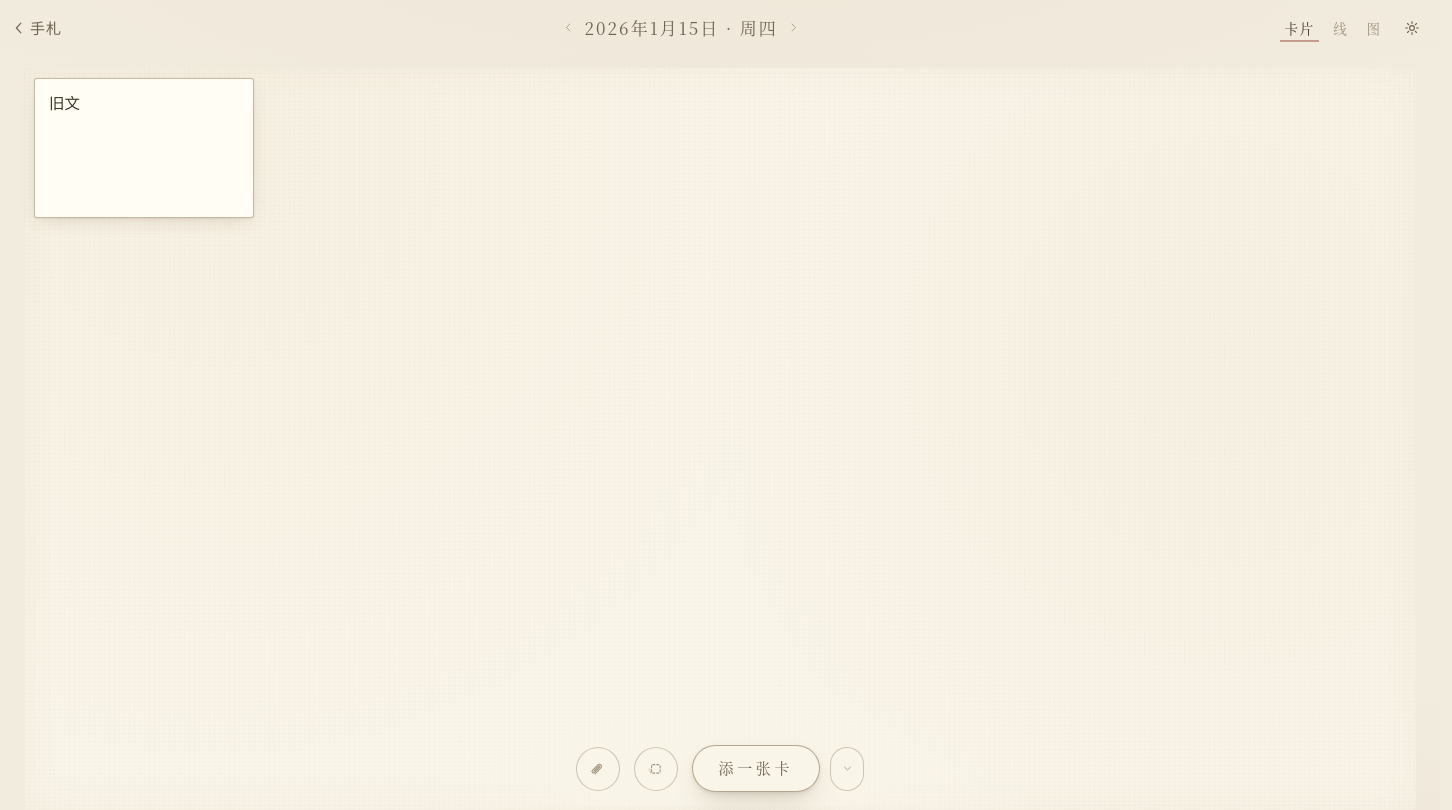
Test case: 文字卡自动保存（缝=mock BanjiApp，无 IDB） › 格式切换 正文/手记 持久 props.format，md 下渲染标题
Step 1. Double-click the text "旧文" → (64, 103), box x1=49 y1=92 x2=80 y2=114
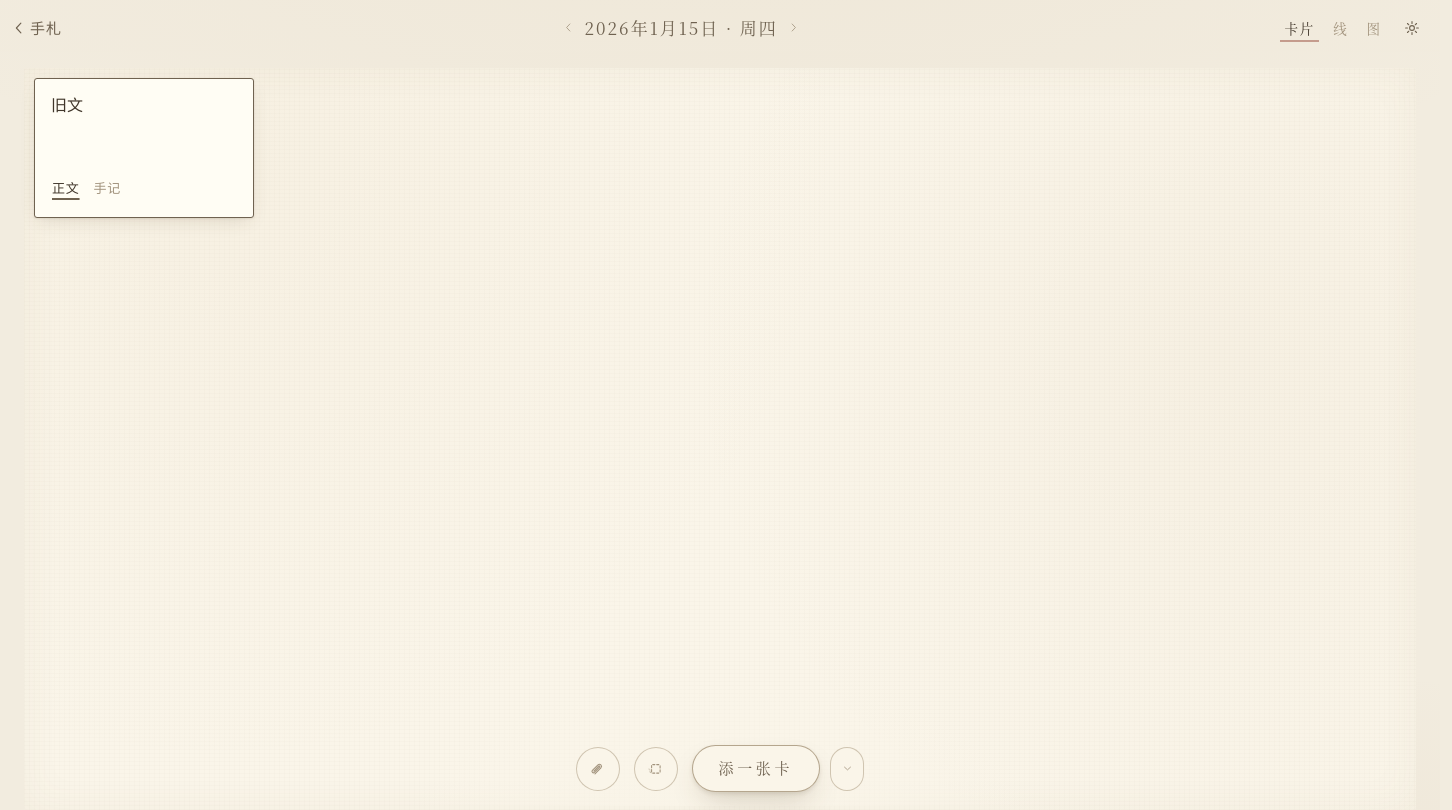
Step 2. Click the button "手记" → (107, 189), box x1=91 y1=175 x2=124 y2=203
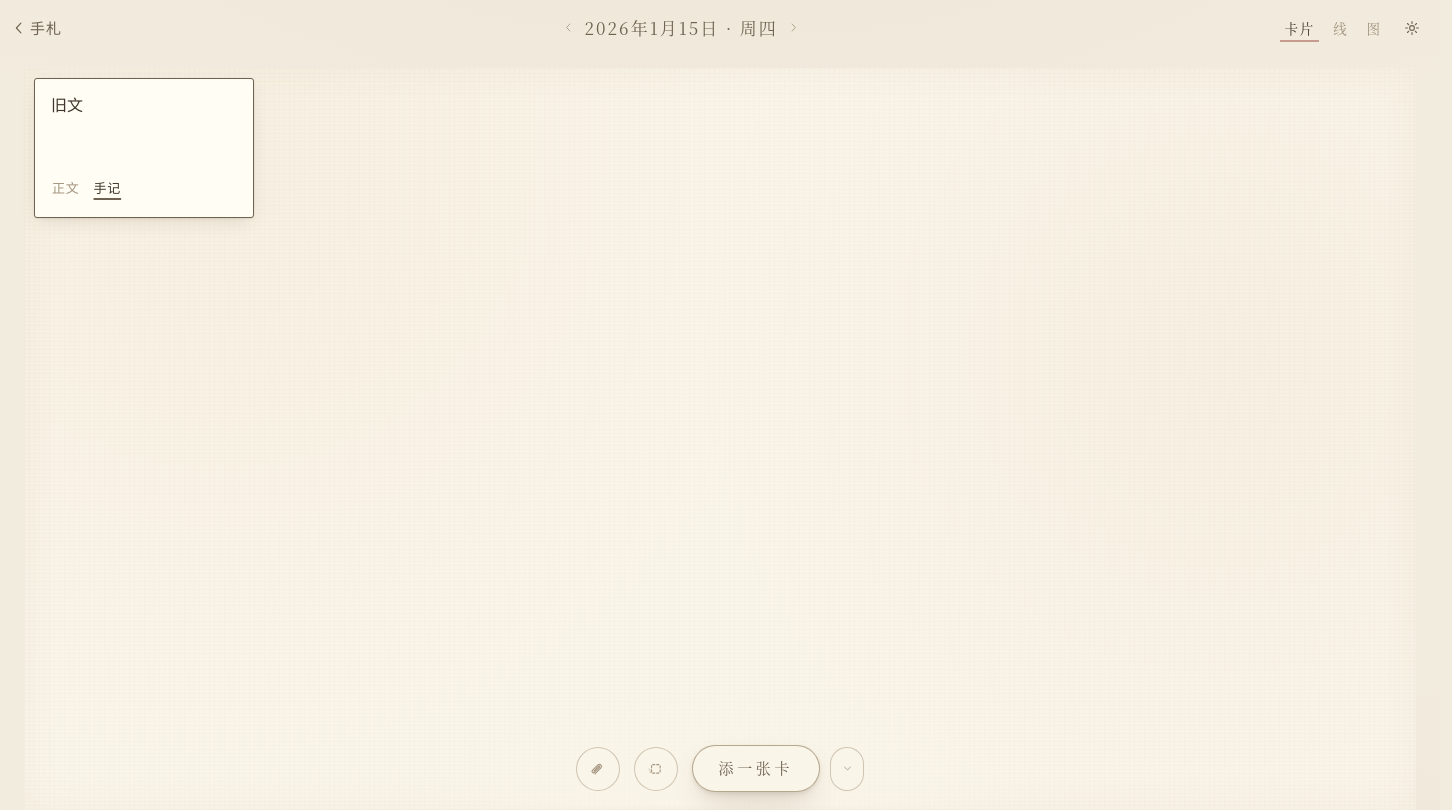
Step 3. Replace the text in the text box with "# 标题一" → (144, 130), box x1=49 y1=91 x2=239 y2=169
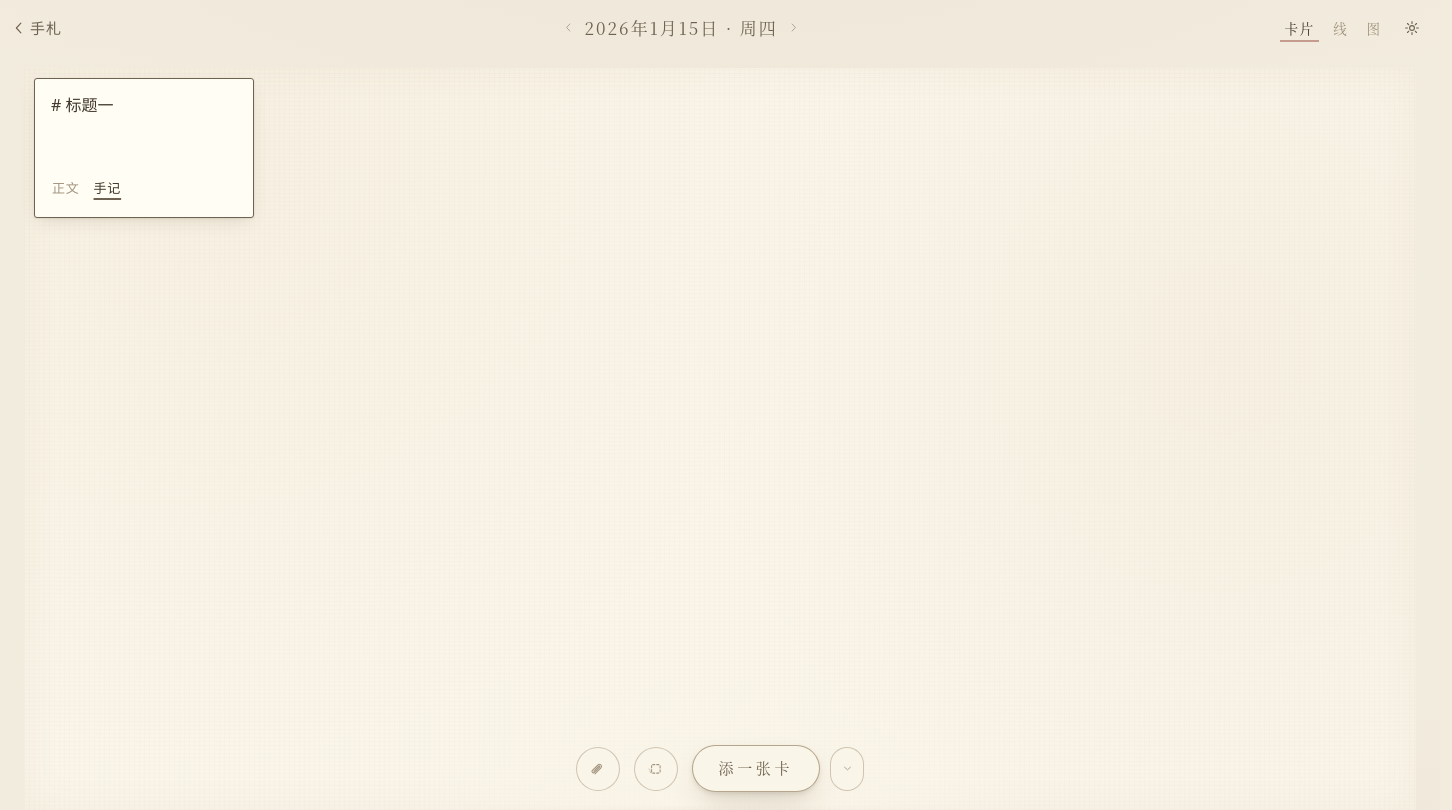
Step 4. Leave the text box, box x1=49 y1=91 x2=239 y2=169
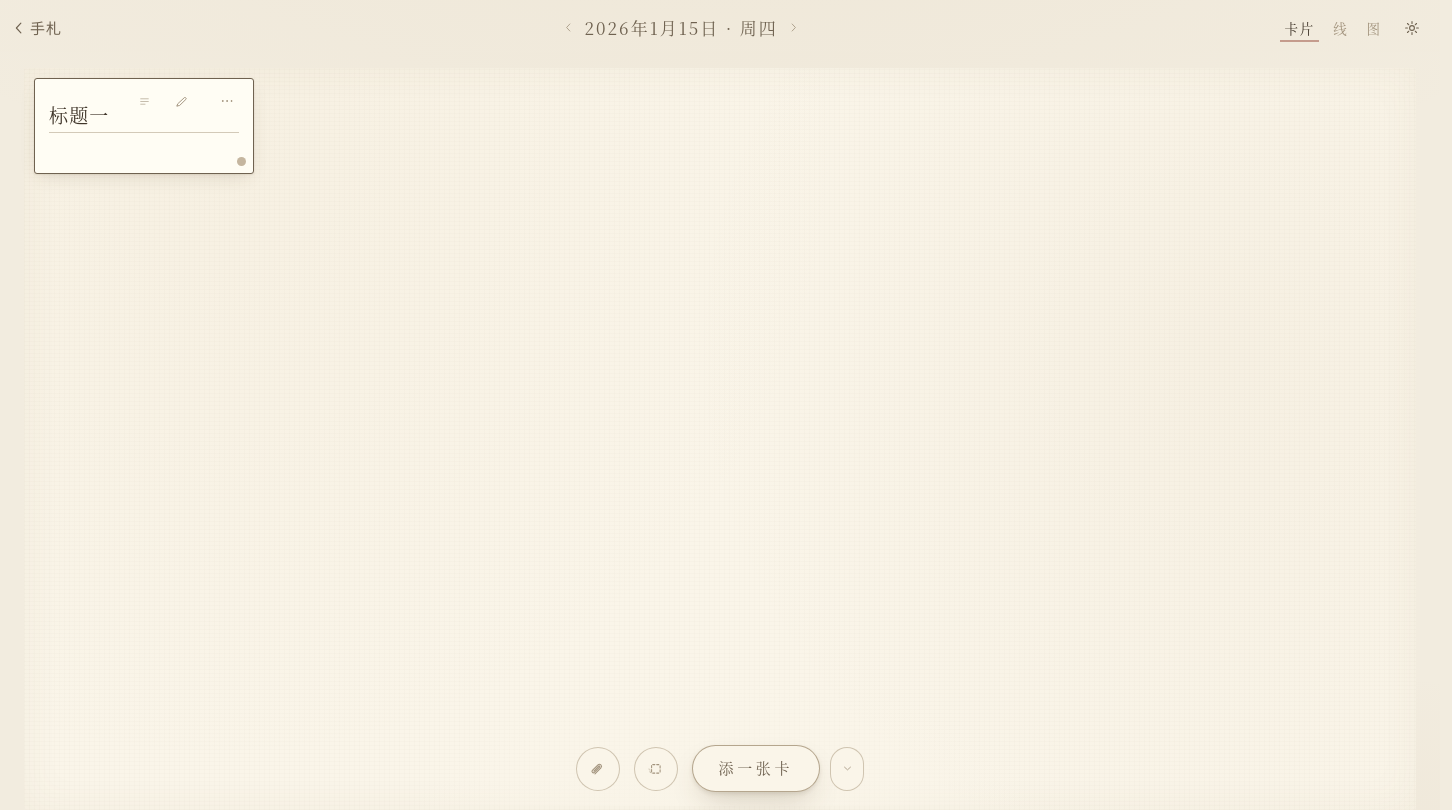
Check: the heading "标题一" is shown, box x1=49 y1=99 x2=239 y2=133
